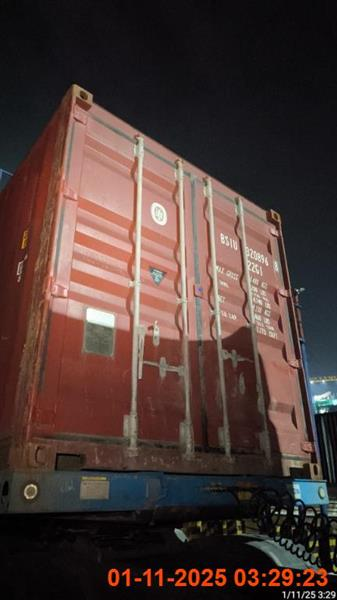broken: (0, 82, 329, 577), (1, 83, 330, 573)
